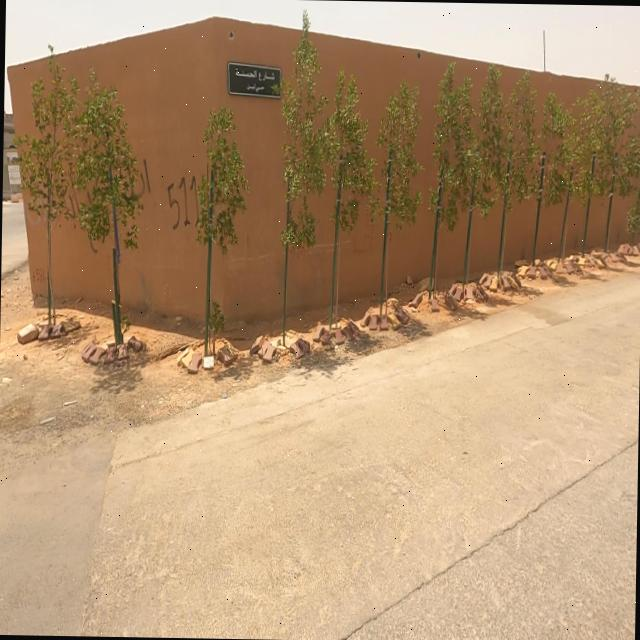Graffiti: (166, 176, 202, 230), (126, 159, 153, 220), (32, 263, 49, 290)
